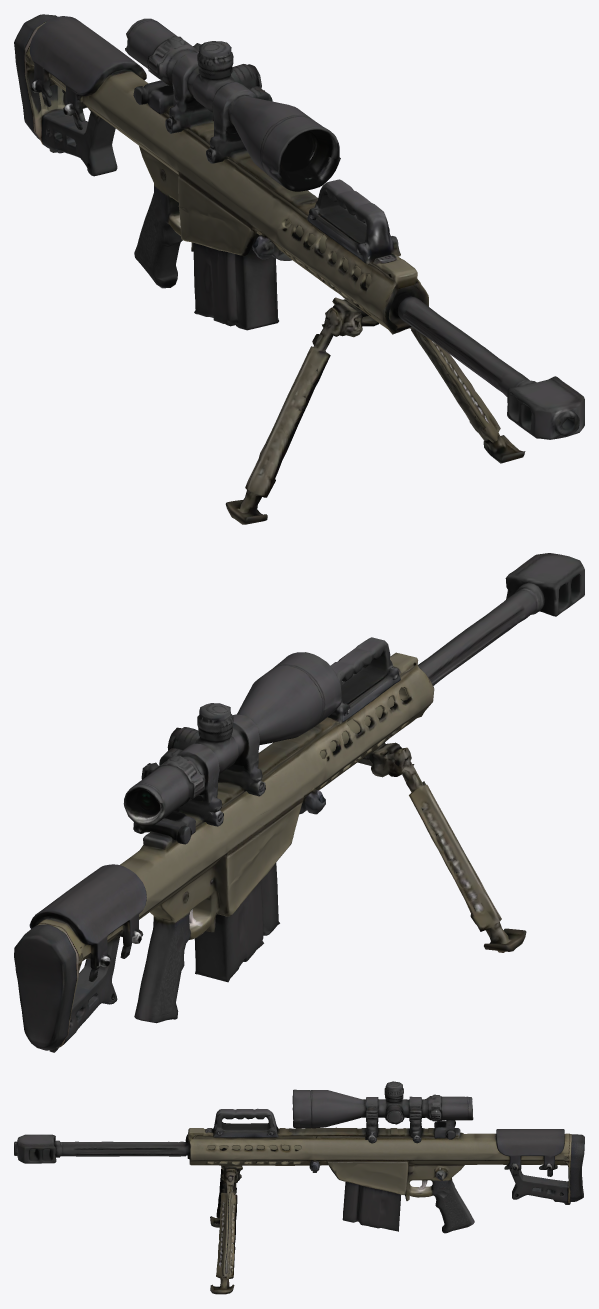
The model's file is rifle_titan.glb.
The picture shows the model from 3 angles, top to bottom: view 1: azimuth 30°, elevation 25°; view 2: azimuth 150°, elevation 25°; view 3: azimuth 270°, elevation 25°; orthographic projection. The views are drawn at different scales.
Visible parts, largest first — view 1: tripo_node_a7669d19-aa59-48e9-86d1-360a2f2604a0; view 2: tripo_node_a7669d19-aa59-48e9-86d1-360a2f2604a0; view 3: tripo_node_a7669d19-aa59-48e9-86d1-360a2f2604a0.
Boxes of the visible parts, x1,y1,x2,y2 form: tripo_node_a7669d19-aa59-48e9-86d1-360a2f2604a0: (14, 14, 584, 524); tripo_node_a7669d19-aa59-48e9-86d1-360a2f2604a0: (14, 553, 584, 1052); tripo_node_a7669d19-aa59-48e9-86d1-360a2f2604a0: (14, 1081, 584, 1294).
Bounding box in the file's own units: 0.3041 × 0.3392 × 1.
Materials: 1 (1 with a texture image).
